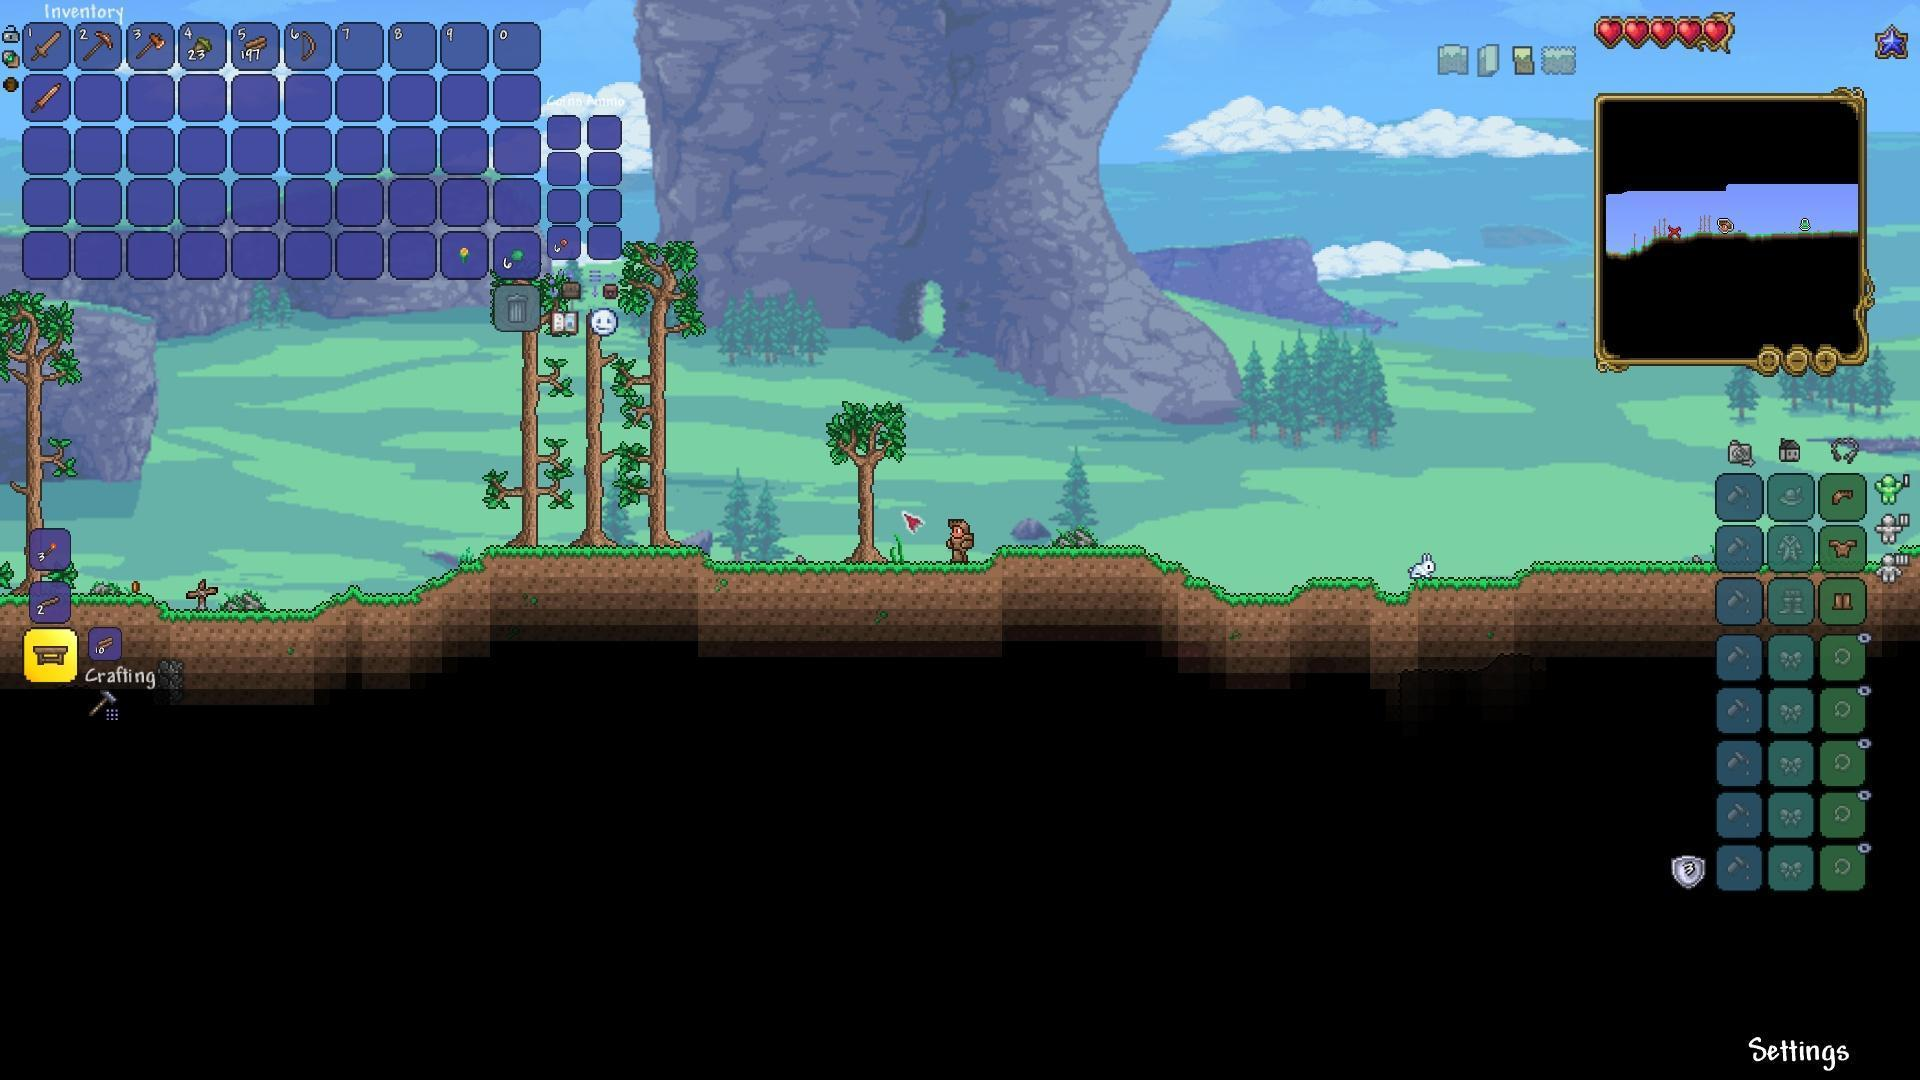breastplate: (1830, 537, 1859, 558)
helmet: (1828, 485, 1857, 510)
legs: (1832, 587, 1857, 615)
wood: (239, 29, 270, 59), (88, 629, 120, 659)
workbench: (33, 645, 65, 669)
